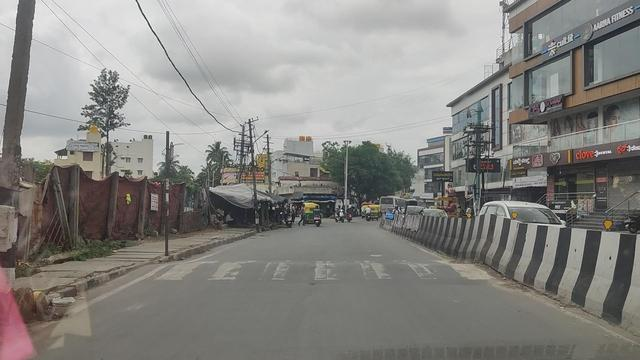SpeedBump: (139, 257, 485, 283)
